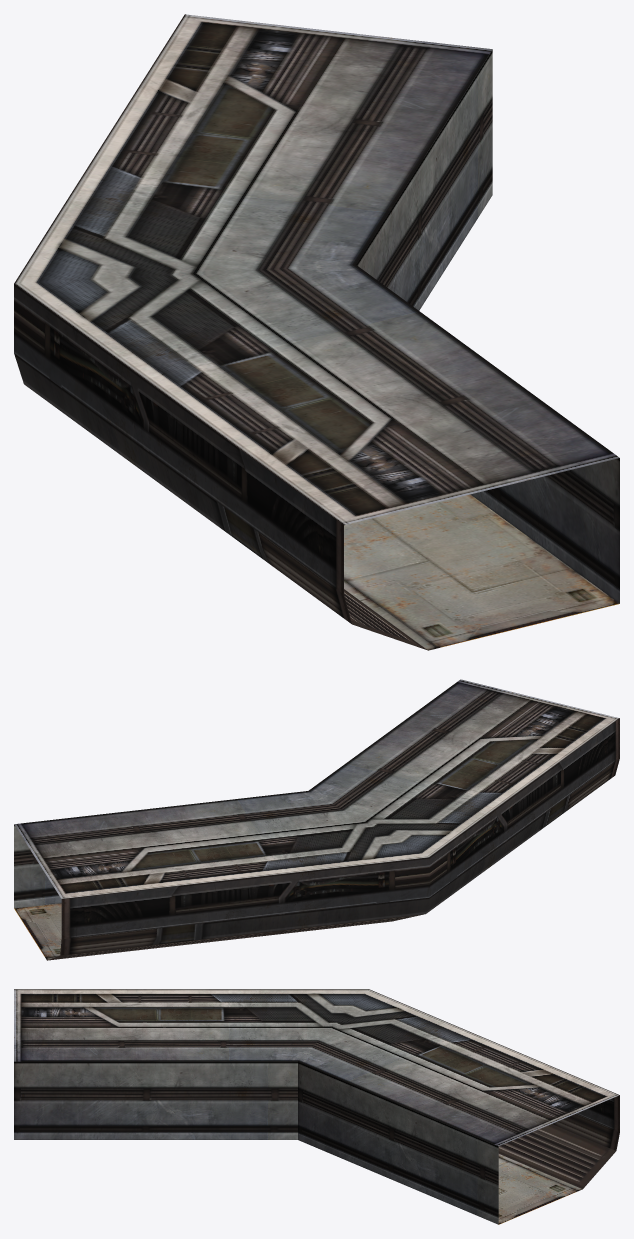
The model's file is Edge_03.fbx.
3 views of the same model, one above another, from view 1: azimuth 30°, elevation 25°; view 2: azimuth 150°, elevation 25°; view 3: azimuth 270°, elevation 25° (orthographic). The views are drawn at different scales.
Visible parts, largest first — view 1: Edge_03; view 2: Edge_03; view 3: Edge_03.
Boxes of the visible parts, <box> form: Edge_03: <box>14,14,619,650</box>; Edge_03: <box>14,679,619,960</box>; Edge_03: <box>14,989,619,1224</box>.
Bounding box in the file's own units: 217 × 50.53 × 354.
